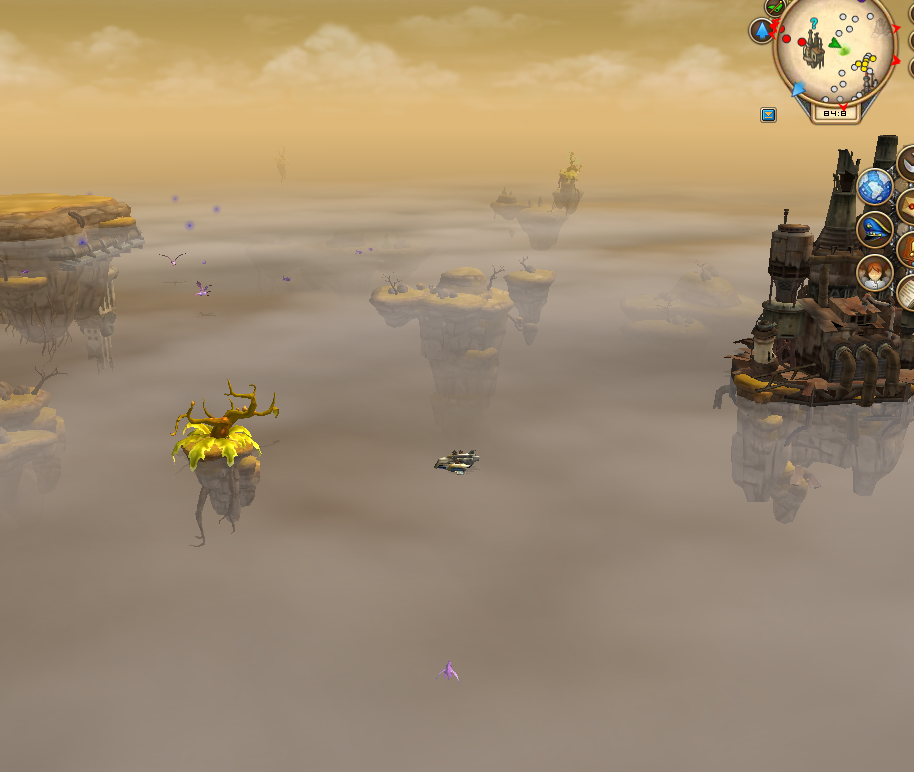dandelion-empty: (173, 383, 286, 535)
